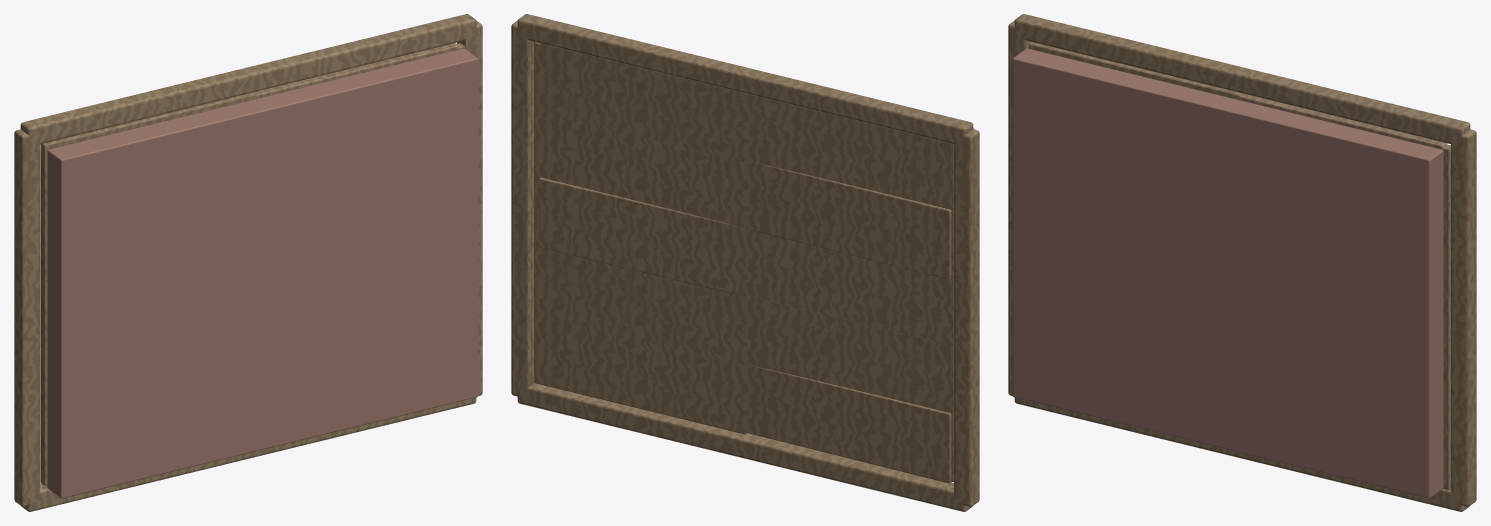
Rendered from ENV_BoardedWindow.fbx.
3 renders of one model, left to right at view 1: azimuth 30°, elevation 25°; view 2: azimuth 150°, elevation 25°; view 3: azimuth 330°, elevation 25°, orthographic.
Parts seen in each view (by area): view 1: Window_BrickWall, Window_Frame, Window_Board_05, Window_Board_Broken_05, Window_Board_Broken_01, Window_Board_Broken_02, Window_Board_Broken_03, Window_Board_Broken_04; view 2: Window_Frame, Window_Board_05, Window_Board_Broken_02, Window_Board_02, Window_Board_Broken_05, Window_Board_Broken_01, Window_Board_01, Window_Board_04, Window_Board_03, Window_Board_Broken_03, Window_Board_Broken_04; view 3: Window_BrickWall, Window_Frame, Window_Board_05, Window_Board_Broken_05, Window_Board_Broken_01, Window_Board_Broken_02, Window_Board_Broken_04, Window_Board_Broken_03.
Part boxes in pixels (bbox=[...]): Window_BrickWall: bbox=[47, 48, 478, 498]; Window_Frame: bbox=[14, 14, 482, 511]; Window_Board_05: bbox=[49, 43, 458, 149]; Window_Board_Broken_05: bbox=[40, 43, 464, 213]; Window_Board_Broken_01: bbox=[40, 415, 47, 485]; Window_Board_Broken_02: bbox=[40, 347, 47, 417]; Window_Board_Broken_03: bbox=[40, 279, 47, 349]; Window_Board_Broken_04: bbox=[40, 211, 47, 281]; Window_Frame: bbox=[511, 14, 979, 511]; Window_Board_05: bbox=[540, 43, 949, 209]; Window_Board_Broken_02: bbox=[534, 247, 953, 413]; Window_Board_02: bbox=[541, 248, 949, 412]; Window_Board_Broken_05: bbox=[534, 42, 953, 209]; Window_Board_Broken_01: bbox=[534, 314, 953, 482]; Window_Board_01: bbox=[744, 364, 951, 483]; Window_Board_04: bbox=[743, 161, 951, 279]; Window_Board_03: bbox=[539, 177, 746, 296]; Window_Board_Broken_03: bbox=[534, 179, 953, 345]; Window_Board_Broken_04: bbox=[534, 111, 953, 277]; Window_BrickWall: bbox=[1012, 48, 1443, 498]; Window_Frame: bbox=[1008, 14, 1476, 511]; Window_Board_05: bbox=[1032, 47, 1447, 149]; Window_Board_Broken_05: bbox=[1029, 42, 1450, 217]; Window_Board_Broken_01: bbox=[1443, 420, 1450, 489]; Window_Board_Broken_02: bbox=[1443, 353, 1450, 421]; Window_Board_Broken_04: bbox=[1443, 217, 1450, 285]; Window_Board_Broken_03: bbox=[1443, 285, 1450, 353].
Size of the model in its own units: 148 by 118 by 14.5.
